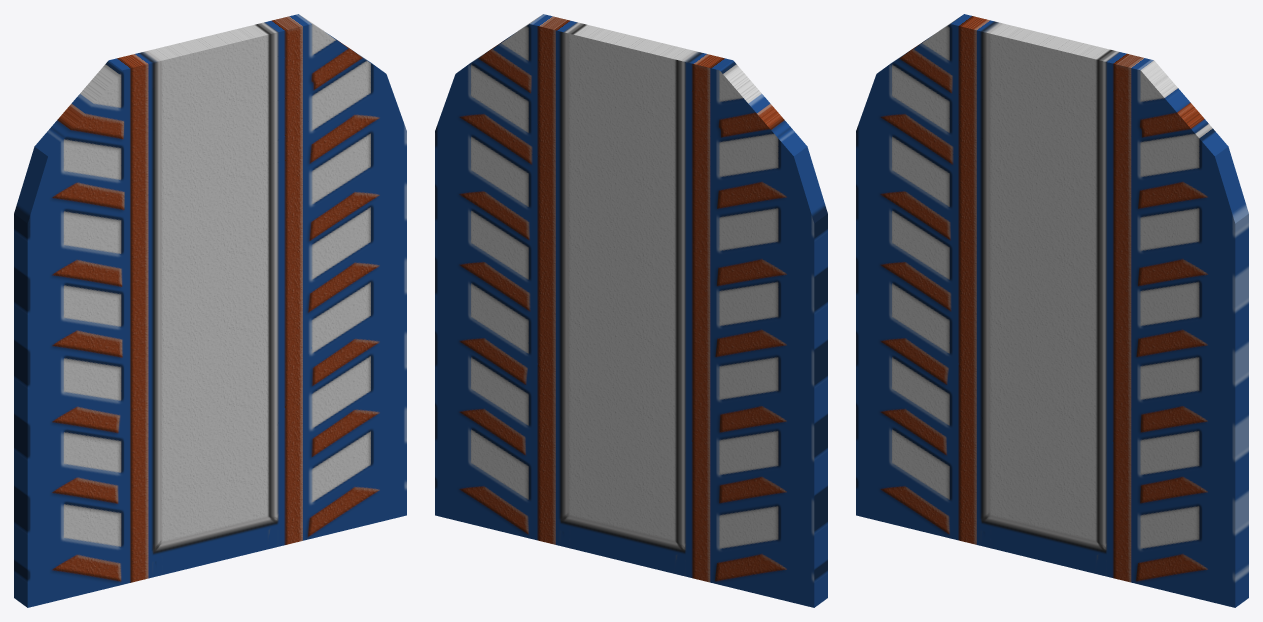
File: Door.FBX
The picture shows the model from 3 angles, left to right: view 1: azimuth 30°, elevation 25°; view 2: azimuth 150°, elevation 25°; view 3: azimuth 330°, elevation 25°; orthographic projection.
Parts seen in each view (by area): view 1: Door_Door_Door_Door_Door1_Door_Door_Door_Door_Door_pCube3_Do; view 2: Door_Door_Door_Door_Door1_Door_Door_Door_Door_Door_pCube3_Do; view 3: Door_Door_Door_Door_Door1_Door_Door_Door_Door_Door_pCube3_Do.
Part boxes in pixels (x1,y1,x2,y2): Door_Door_Door_Door_Door1_Door_Door_Door_Door_Door_pCube3_Do: (14,14,406,607); Door_Door_Door_Door_Door1_Door_Door_Door_Door_Door_pCube3_Do: (435,14,827,607); Door_Door_Door_Door_Door1_Door_Door_Door_Door_Door_pCube3_Do: (856,14,1248,607).
Size of the model in its own units: 677 by 878 by 42.22.
